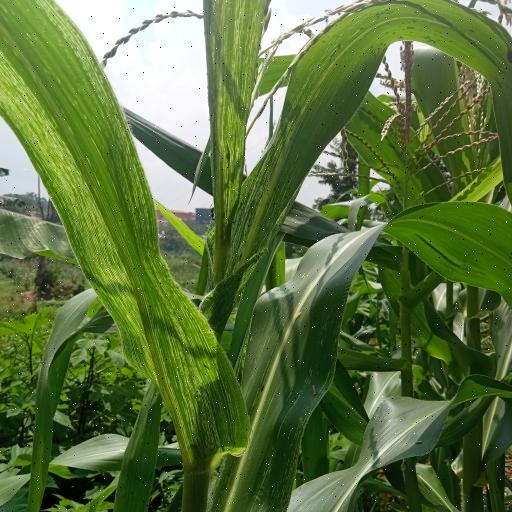Corn_Streak: (0, 0, 255, 455)
